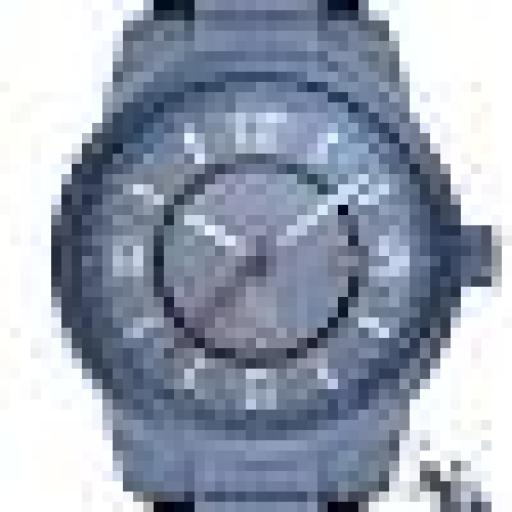KolSaati: (20, 0, 512, 512)
